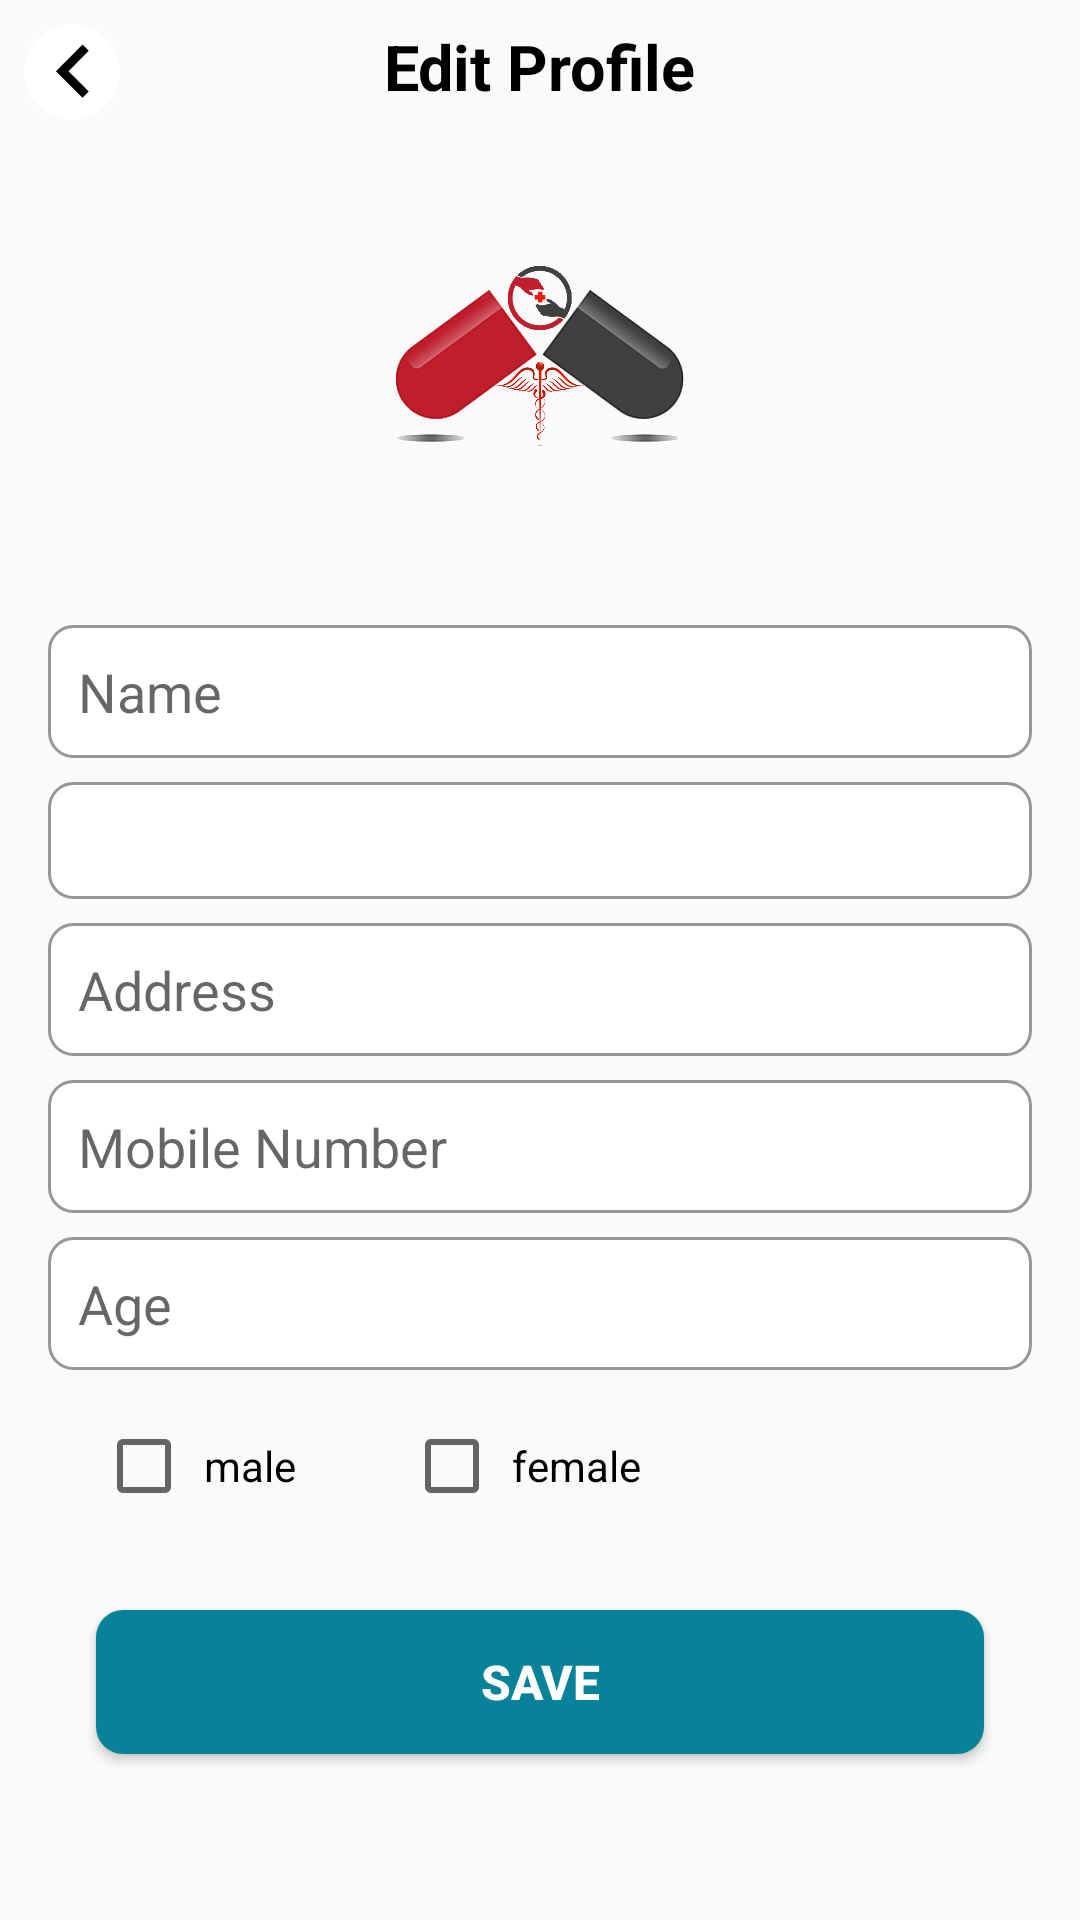

Icon bounding boxes for this 1080 × 1920 phone screenshot, format Rect(x1, y1, x2, y2):
back: Rect(56, 44, 89, 98)
